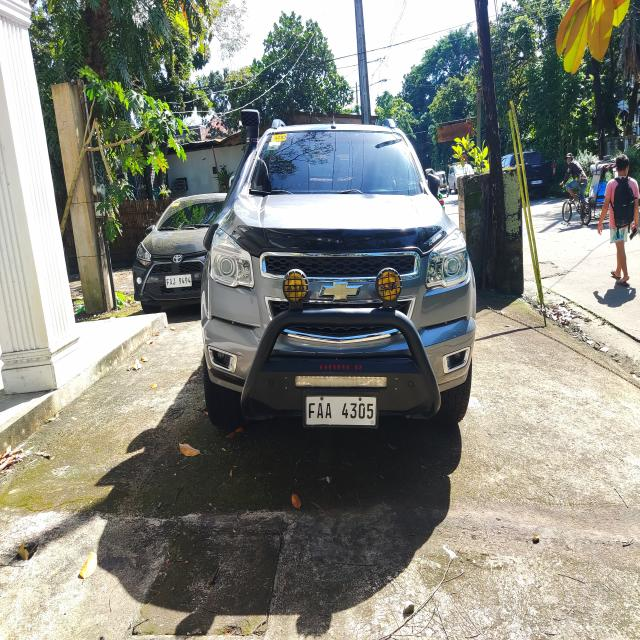plate: (302, 390, 378, 429)
